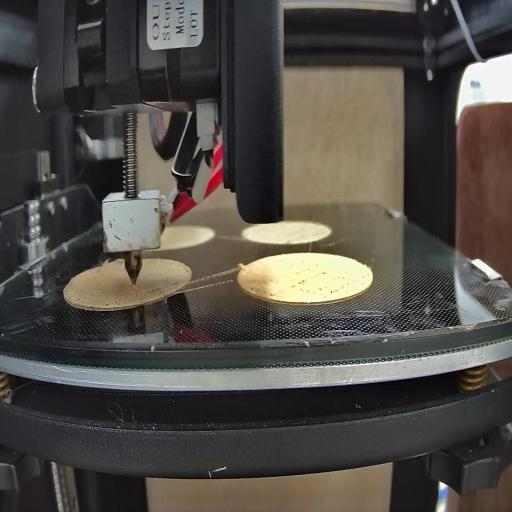under_extrusion: (293, 263, 366, 299), (75, 290, 122, 314), (146, 276, 187, 299), (249, 282, 279, 302)
